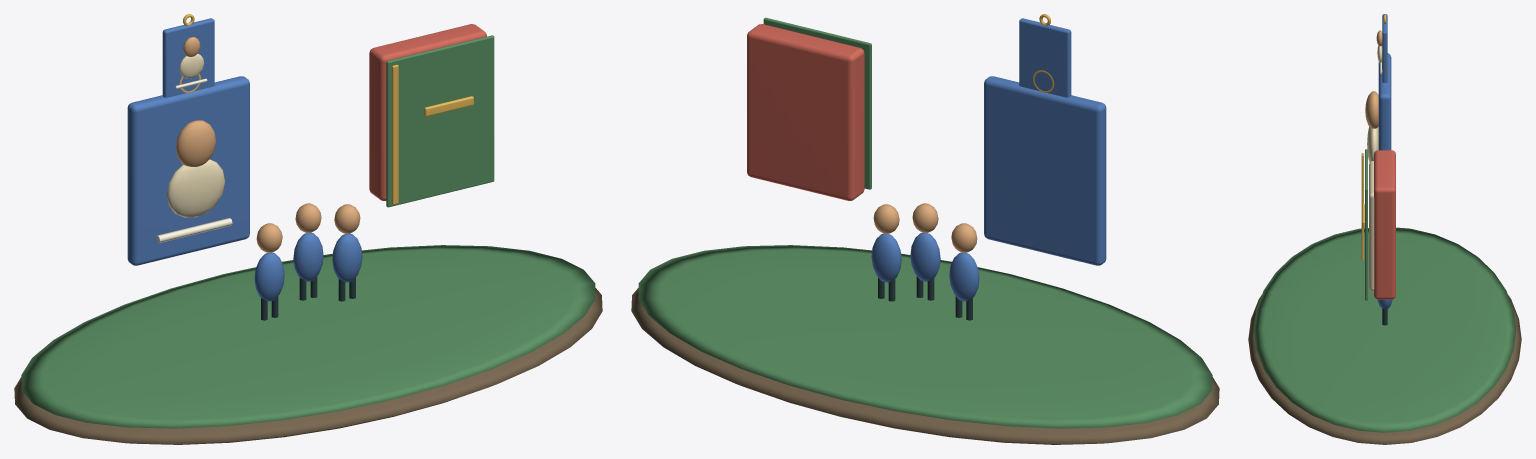
File: complete-first-same-class-learners.glb
The picture shows the model from 3 angles, left to right: view 1: azimuth 30°, elevation 25°; view 2: azimuth 150°, elevation 25°; view 3: azimuth 270°, elevation 25°; orthographic projection. The views are drawn at different scales.
Visible parts, largest first — view 1: complete-first-same-class-learners_surface_01, complete-first-same-class-learners_surface_02, complete-first-same-class-learners_surface_00, complete-first-same-class-learners_surface_07, complete-first-same-class-learners_surface_03, complete-first-same-class-learners_surface_04, complete-first-same-class-learners_surface_06, complete-first-same-class-learners_surface_08, complete-first-same-class-learners_surface_05; view 2: complete-first-same-class-learners_surface_01, complete-first-same-class-learners_surface_02, complete-first-same-class-learners_surface_07, complete-first-same-class-learners_surface_00, complete-first-same-class-learners_surface_03, complete-first-same-class-learners_surface_08; view 3: complete-first-same-class-learners_surface_01, complete-first-same-class-learners_surface_00, complete-first-same-class-learners_surface_07, complete-first-same-class-learners_surface_02, complete-first-same-class-learners_surface_04, complete-first-same-class-learners_surface_03, complete-first-same-class-learners_surface_06.
Part boxes in pixels (<box>): complete-first-same-class-learners_surface_01: <box>21,35,595,428</box>; complete-first-same-class-learners_surface_02: <box>127,18,362,301</box>; complete-first-same-class-learners_surface_00: <box>14,288,602,444</box>; complete-first-same-class-learners_surface_07: <box>369,24,486,200</box>; complete-first-same-class-learners_surface_03: <box>176,37,360,252</box>; complete-first-same-class-learners_surface_04: <box>166,53,225,217</box>; complete-first-same-class-learners_surface_06: <box>179,14,473,204</box>; complete-first-same-class-learners_surface_08: <box>261,276,355,320</box>; complete-first-same-class-learners_surface_05: <box>156,78,232,243</box>; complete-first-same-class-learners_surface_01: <box>638,17,1212,428</box>; complete-first-same-class-learners_surface_02: <box>871,18,1106,301</box>; complete-first-same-class-learners_surface_07: <box>747,24,864,200</box>; complete-first-same-class-learners_surface_00: <box>631,288,1219,444</box>; complete-first-same-class-learners_surface_03: <box>873,203,977,252</box>; complete-first-same-class-learners_surface_08: <box>878,276,972,320</box>; complete-first-same-class-learners_surface_01: <box>1253,149,1516,432</box>; complete-first-same-class-learners_surface_00: <box>1248,295,1521,444</box>; complete-first-same-class-learners_surface_07: <box>1374,150,1395,299</box>; complete-first-same-class-learners_surface_02: <box>1377,14,1392,308</box>; complete-first-same-class-learners_surface_04: <box>1367,45,1382,291</box>; complete-first-same-class-learners_surface_03: <box>1365,30,1382,128</box>; complete-first-same-class-learners_surface_06: <box>1361,14,1387,260</box>.
Bounding box in the file's own units: 4.56 × 2.95 × 2.5.
